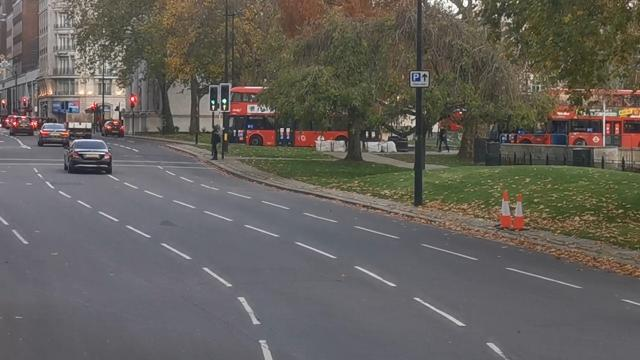bus: (225, 87, 393, 145), (506, 84, 640, 152)
car: (64, 138, 114, 177), (37, 123, 70, 147), (9, 116, 35, 136), (101, 119, 125, 138)
truck: (62, 110, 94, 138)
